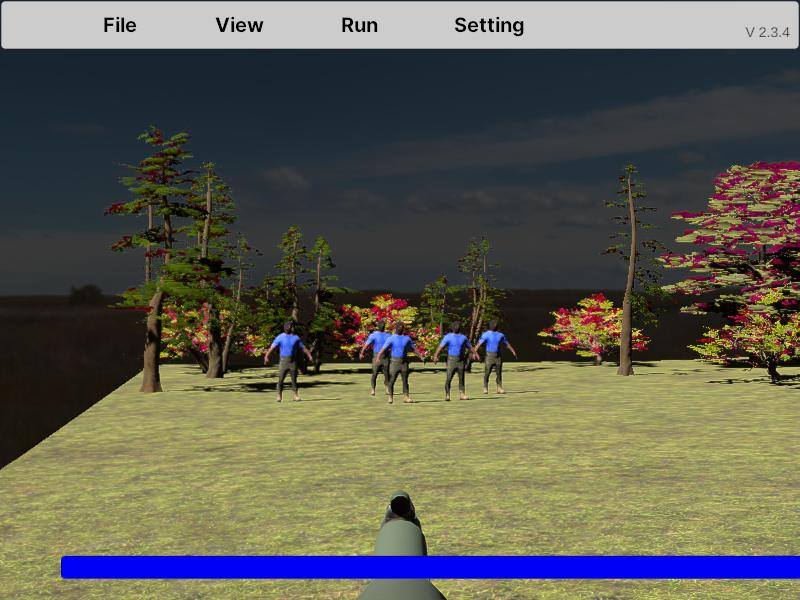Human: (375, 323, 424, 403), (264, 321, 312, 402), (376, 322, 424, 403), (434, 320, 478, 401), (434, 320, 477, 402), (473, 319, 518, 395), (360, 319, 399, 396)
